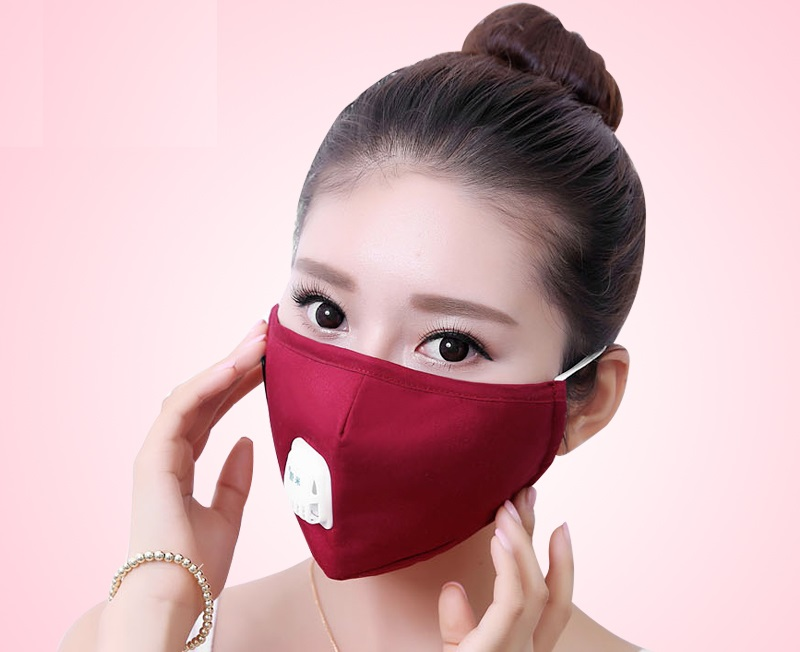face_mask: (262, 171, 561, 542)
